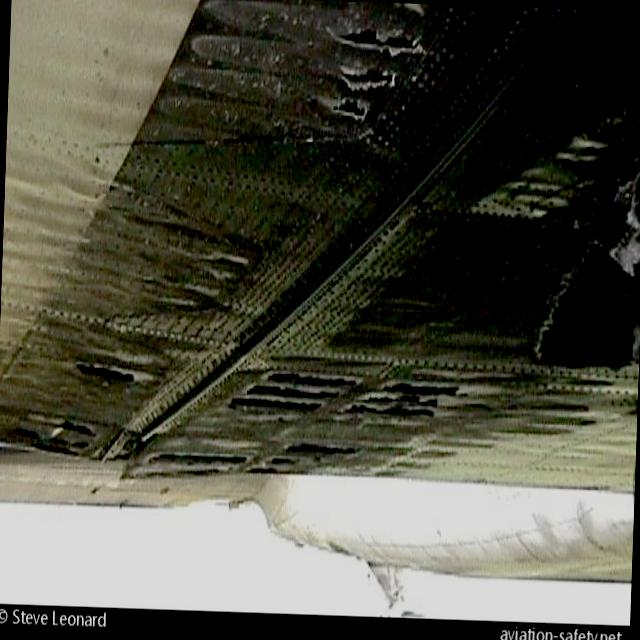crack: (306, 12, 442, 141), (70, 348, 146, 388)
